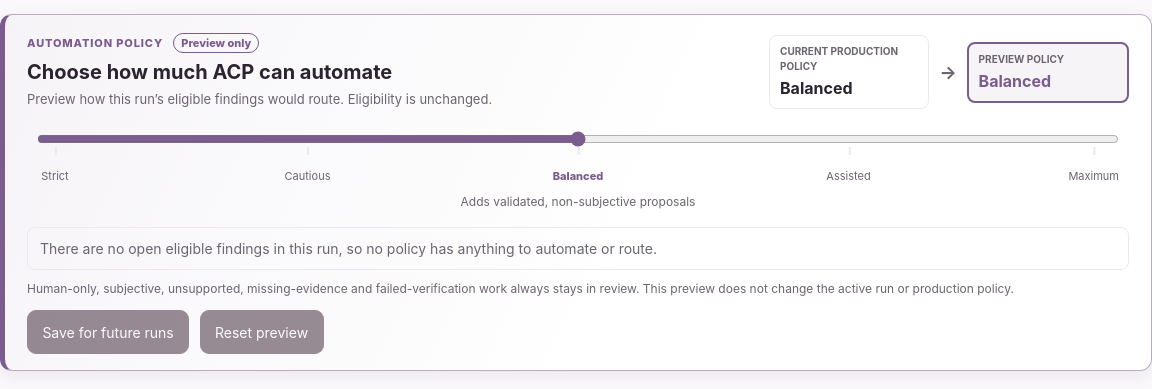
it: AutomationPolicyControl › is a prominent preview with five exact, aligned, clickable snap points
This screenshot has width=1152, height=389.
Click the button "Maximum".
click(1094, 172)  # box 1064,155 -> 1123,189
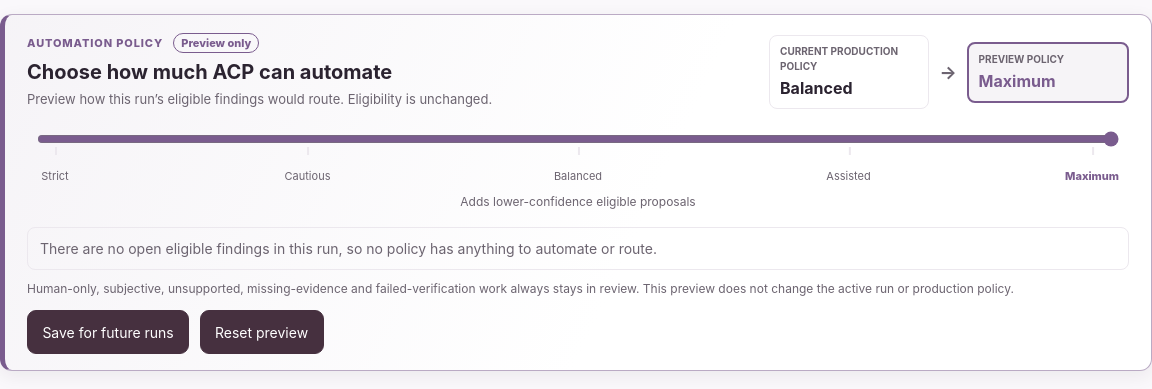
Check: the slider holds "5", box 37,131 -> 1119,147
